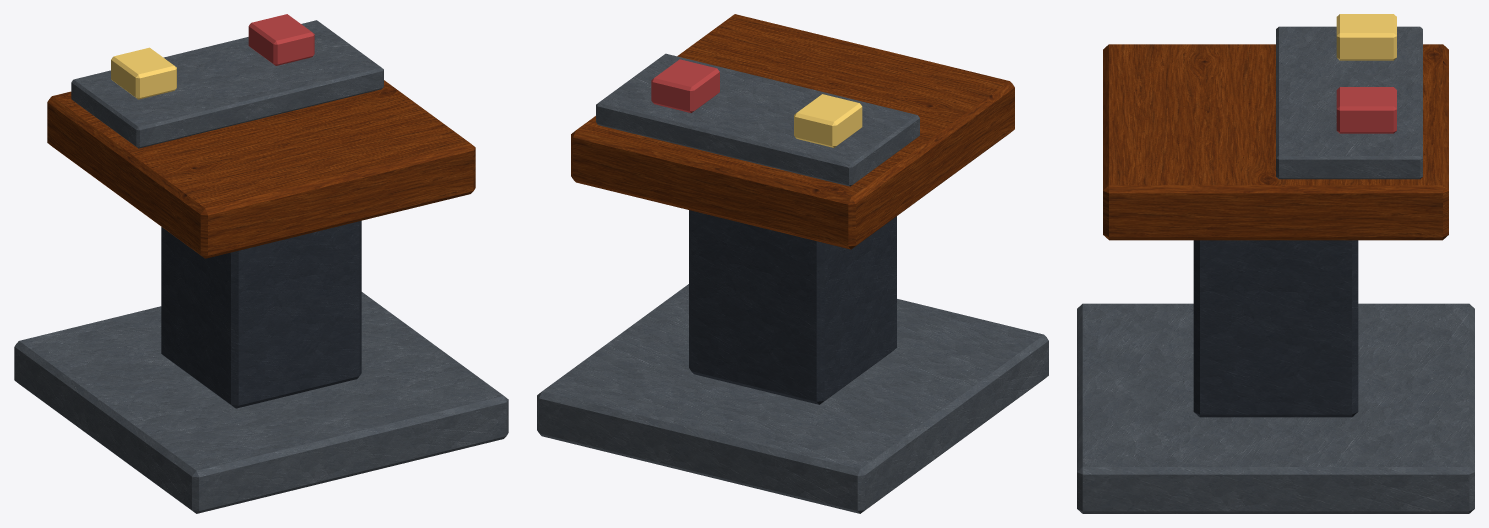
Rendered from train_assembly_station.gltf.
3 views of the same model, side by side, from view 1: azimuth 30°, elevation 25°; view 2: azimuth 150°, elevation 25°; view 3: azimuth 270°, elevation 25° (orthographic). The views are drawn at different scales.
Bounding box in the file's own units: 0.92 × 0.94 × 0.92.
5 materials, 3 textured.
